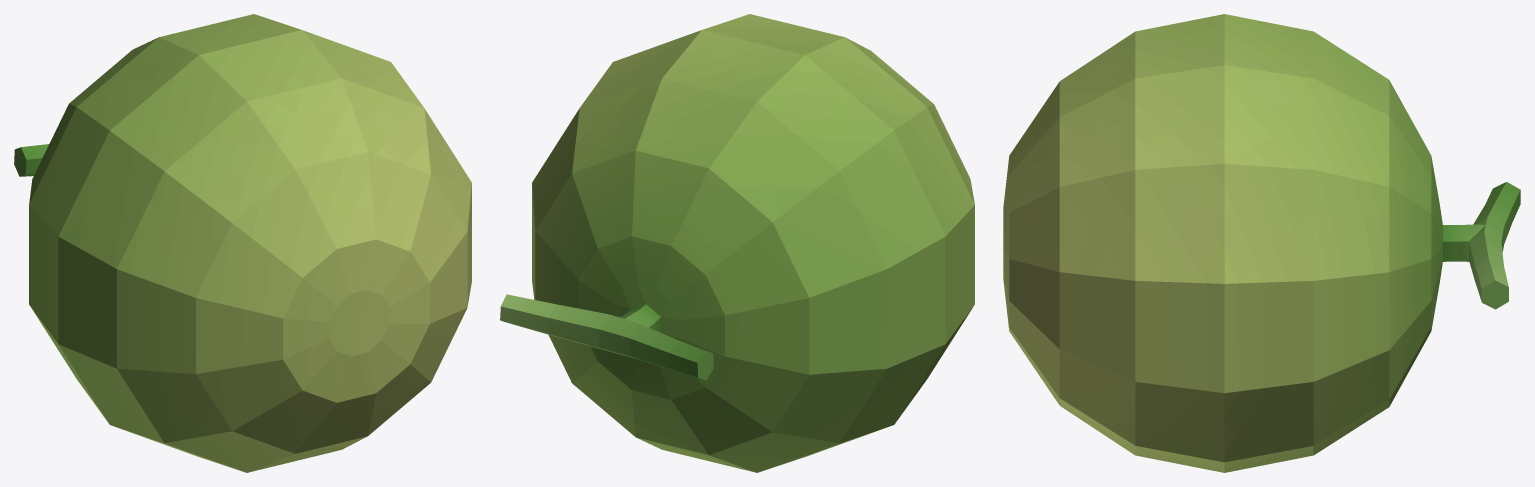
Rendered from melon.fbx.
3 views of the same model, side by side, from view 1: azimuth 30°, elevation 25°; view 2: azimuth 150°, elevation 25°; view 3: azimuth 270°, elevation 25° (orthographic).
Parts seen in each view (by area): view 1: fruit, stem; view 2: fruit, stem; view 3: fruit, stem.
Boxes of the visible parts, left/top/right/bottom form: fruit: left=29, top=14, right=471, bottom=472; stem: left=14, top=144, right=48, bottom=176; fruit: left=532, top=14, right=974, bottom=472; stem: left=500, top=294, right=713, bottom=380; fruit: left=1003, top=14, right=1442, bottom=472; stem: left=1443, top=182, right=1520, bottom=309.
Size of what is drawn, in the model's own units: 14.88 by 14.88 by 17.09.
